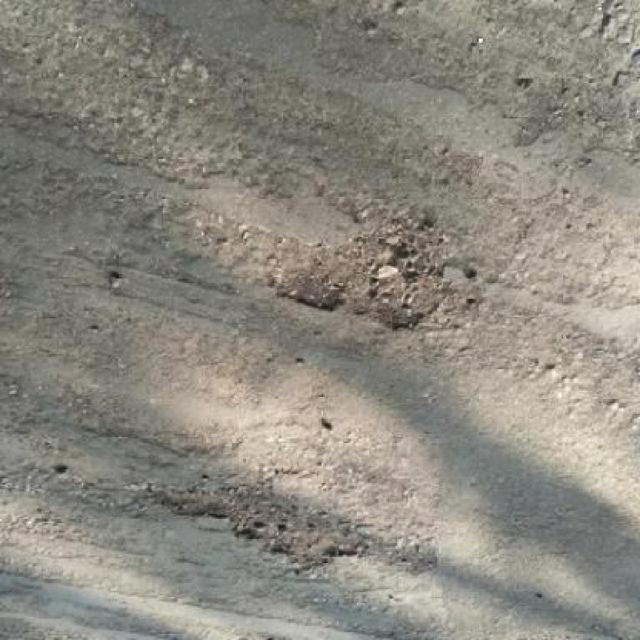pothole: (269, 206, 448, 339), (145, 473, 373, 575)
